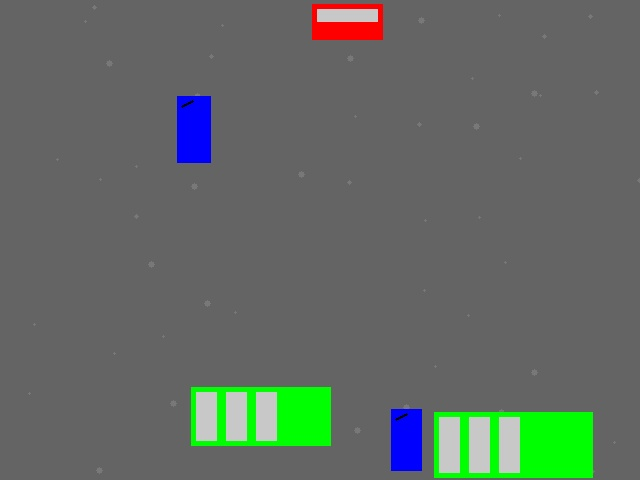bus: (434, 412, 592, 477), (191, 387, 330, 445)
car: (312, 4, 382, 39)
motorcycle: (177, 96, 210, 162), (391, 409, 421, 470)
